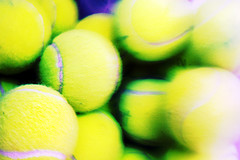tennis ball: (38, 30, 127, 118), (1, 81, 81, 159), (112, 75, 193, 147), (109, 1, 196, 64), (1, 1, 54, 71)
